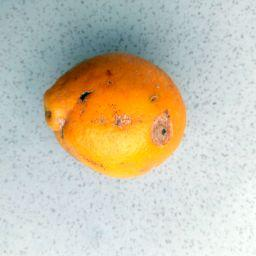Unripe: (44, 52, 187, 179)
